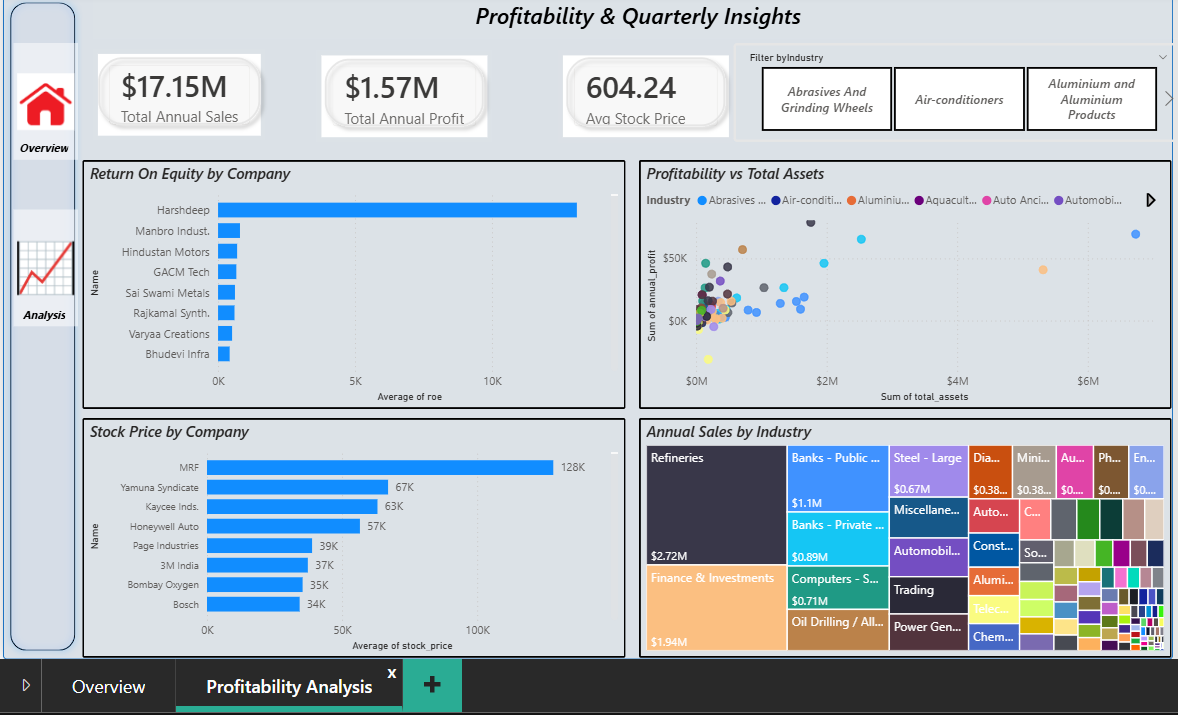

This screenshot's page, from the dashboard's own definition file:
{"tool":"powerbi","page":{"name":"Profitability Analysis","canvas":[1280,720],"ordinal":1},"visuals":[{"type":"shape","box":[0,1.6,1268.7,718.9],"z":0},{"type":"shape","box":[0,0,86.2,718.9],"z":1000},{"type":"cardVisual","fields":{"Data":["Sum(public dashboard_master.annual_sales)"]},"box":[97.6,58.6,187.1,99.2],"z":2000},{"type":"cardVisual","fields":{"Data":["Sum(public dashboard_master.annual_profit)"]},"box":[339.9,60.2,190.3,99.2],"z":3000},{"type":"cardVisual","fields":{"Data":["Avg(public dashboard_master.stock_price)"]},"box":[601.8,60.2,190.3,99.2],"z":4000},{"type":"clusteredBarChart","title":"Return On Equity by Company","fields":{"Category":["public dashboard_master.Name"],"Y":["Avg(public dashboard_master.roe)"]},"box":[86.2,178.9,588.8,270],"z":5000},{"type":"scatterChart","title":"Profitability vs Total Assets","fields":{"X":["Sum(public dashboard_master.total_assets)"],"Y":["Sum(public dashboard_master.annual_profit)"],"Category":["public dashboard_master.Name"],"Series":["public dashboard_master.Industry"]},"box":[689.7,178.9,577.4,270],"z":6000},{"type":"clusteredBarChart","title":"Stock Price by Company","fields":{"Category":["public dashboard_master.Name"],"Y":["Avg(public dashboard_master.stock_price)"]},"box":[86.2,458.7,588.8,260.2],"z":7000},{"type":"treemap","title":"Annual Sales by Industry","fields":{"Group":["public dashboard_master.Industry"],"Values":["Sum(public dashboard_master.annual_sales)"]},"box":[689.7,458.7,577.4,260.2],"z":8000},{"type":"slicer","fields":{"Values":["public dashboard_master.Industry"]},"box":[792.1,52,488,107.4],"z":9000},{"type":"textbox","box":[97.6,0,1182.5,47.2],"z":10000},{"type":"shape","box":[94.3,58.6,193.6,91.1],"z":11000},{"type":"shape","box":[339.9,60.2,190.3,91.1],"z":12000},{"type":"shape","box":[601.8,58.6,190.3,92.7],"z":13000},{"type":"actionButton","box":[11.4,52,69.9,126.9],"z":14000},{"type":"actionButton","box":[11.4,232.6,69.9,126.9],"z":15000}]}

Visuals, with their boxes on the page's 1280x720 design canvas (x1, y1, x2, y2). These are canvas units, not pixel positions in the 1178x715 screenshot, which may show the page scaled, cropped or inside an application window:
shape: (x1=0, y1=2, x2=1269, y2=720)
shape: (x1=0, y1=0, x2=86, y2=719)
cardVisual - Sum(public dashboard_master.annual_sales): (x1=98, y1=59, x2=285, y2=158)
cardVisual - Sum(public dashboard_master.annual_profit): (x1=340, y1=60, x2=530, y2=159)
cardVisual - Avg(public dashboard_master.stock_price): (x1=602, y1=60, x2=792, y2=159)
"Return On Equity by Company" clusteredBarChart: (x1=86, y1=179, x2=675, y2=449)
"Profitability vs Total Assets" scatterChart: (x1=690, y1=179, x2=1267, y2=449)
"Stock Price by Company" clusteredBarChart: (x1=86, y1=459, x2=675, y2=719)
"Annual Sales by Industry" treemap: (x1=690, y1=459, x2=1267, y2=719)
slicer - public dashboard_master.Industry: (x1=792, y1=52, x2=1280, y2=159)
textbox: (x1=98, y1=0, x2=1280, y2=47)
shape: (x1=94, y1=59, x2=288, y2=150)
shape: (x1=340, y1=60, x2=530, y2=151)
shape: (x1=602, y1=59, x2=792, y2=151)
actionButton: (x1=11, y1=52, x2=81, y2=179)
actionButton: (x1=11, y1=233, x2=81, y2=360)
